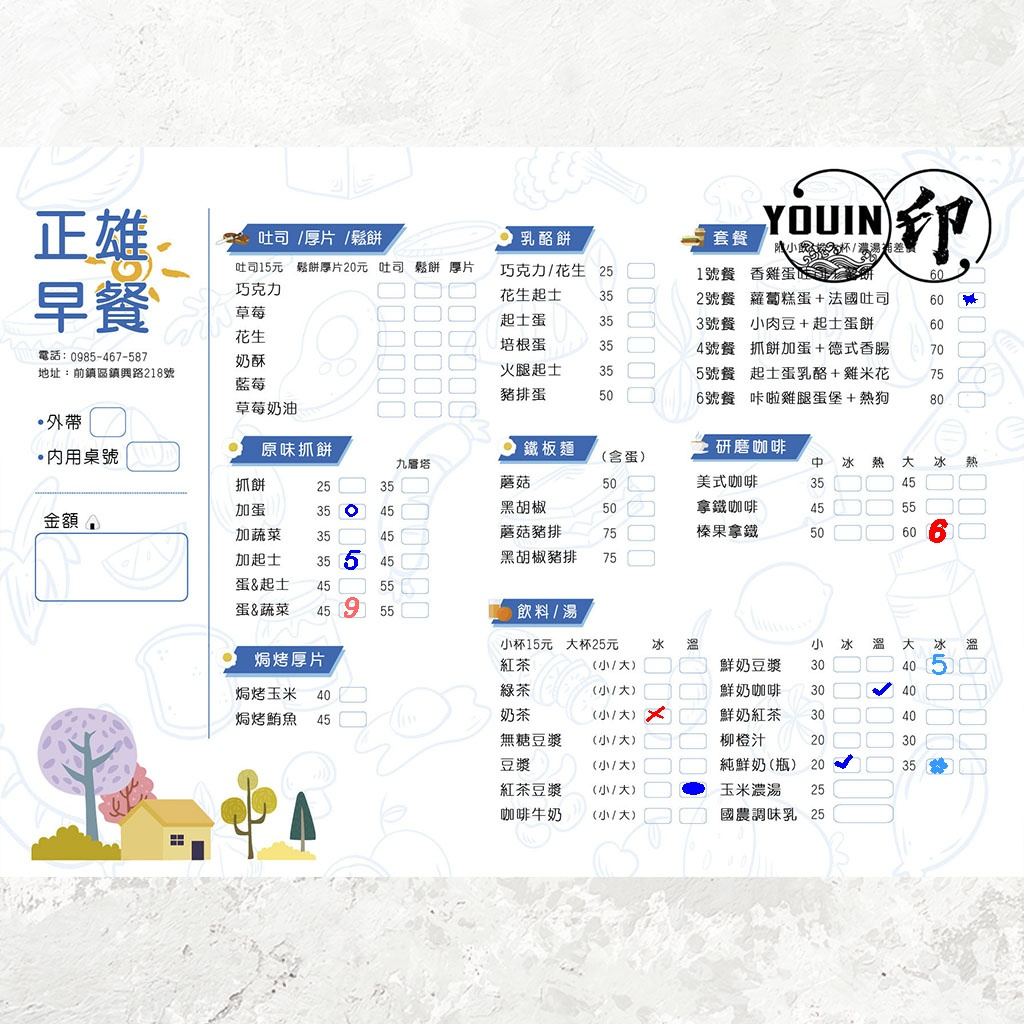marked_circle: (958, 293, 984, 307), (679, 780, 705, 794)
marked_hollow: (338, 503, 364, 517), (925, 759, 951, 773)
marked_number_5: (926, 657, 952, 671), (337, 554, 363, 568)
marked_number_6: (926, 522, 952, 536)
marked_number_9: (338, 602, 364, 616)
marked_tick: (832, 755, 858, 769), (869, 682, 895, 696)
marked_x: (644, 707, 670, 721)
